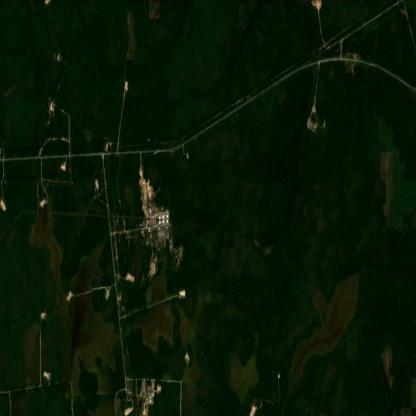oil: (150, 140, 176, 159)
